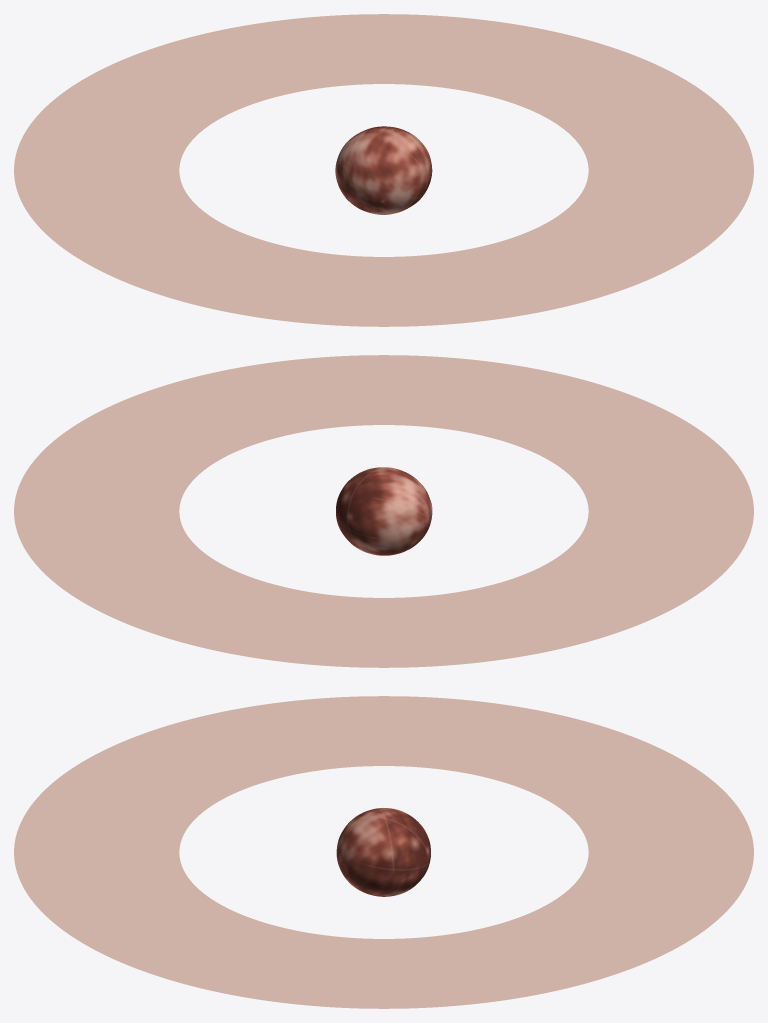
The model's file is quaoar.glb.
The picture shows the model from 3 angles, top to bottom: view 1: azimuth 30°, elevation 25°; view 2: azimuth 150°, elevation 25°; view 3: azimuth 270°, elevation 25°; orthographic projection.
Parts seen in each view (by area): view 1: quaoar_rings, quaoar_body; view 2: quaoar_rings, quaoar_body; view 3: quaoar_rings, quaoar_body.
Part boxes in pixels (<box>): quaoar_rings: <box>14,14,753,326</box>; quaoar_body: <box>335,126,432,214</box>; quaoar_rings: <box>14,355,753,667</box>; quaoar_body: <box>336,467,432,555</box>; quaoar_rings: <box>14,696,753,1008</box>; quaoar_body: <box>336,808,430,896</box>.
Bounding box in the file's own units: 15.65 × 1.84 × 15.65.
Materials: 2 (2 with a texture image).
